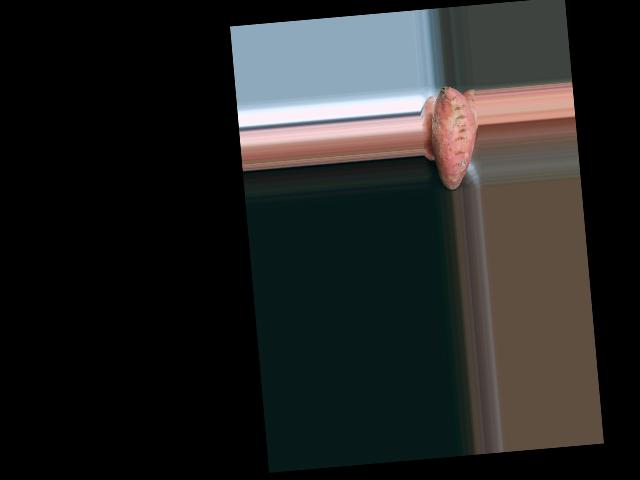sweet_potato: (432, 84, 477, 189)
